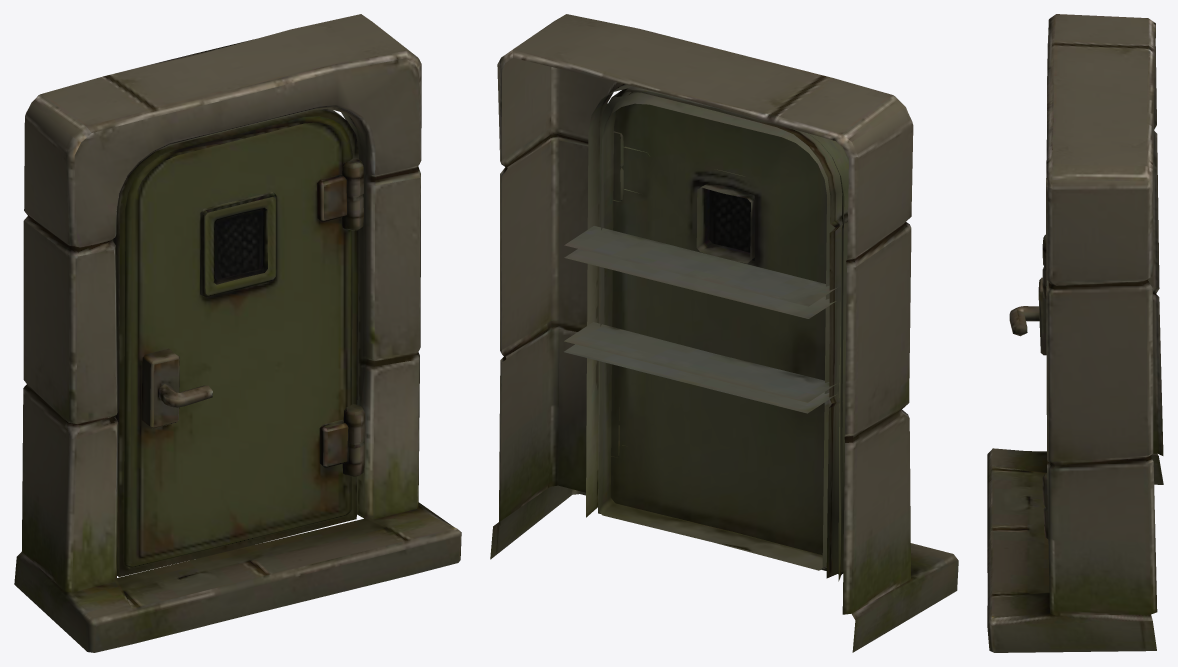
Rendered from SewerDoor_DoubleFlood_90s.fbx.
The picture shows the model from 3 angles, left to right: view 1: azimuth 30°, elevation 25°; view 2: azimuth 150°, elevation 25°; view 3: azimuth 270°, elevation 25°; orthographic projection. The views are drawn at different scales.
Parts seen in each view (by area): view 1: SewerDoor_DoubleFlood_90s; view 2: SewerDoor_DoubleFlood_90s; view 3: SewerDoor_DoubleFlood_90s.
Part boxes in pixels (x1,y1,x2,y2): SewerDoor_DoubleFlood_90s: [14, 14, 461, 652]; SewerDoor_DoubleFlood_90s: [490, 14, 958, 652]; SewerDoor_DoubleFlood_90s: [987, 14, 1163, 652].
Size of the model in its own units: 254 by 325 by 108.
1 material, 1 textured.
